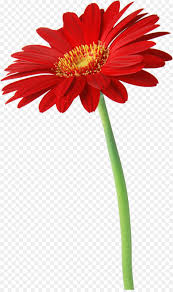flower: (6, 7, 173, 137)
